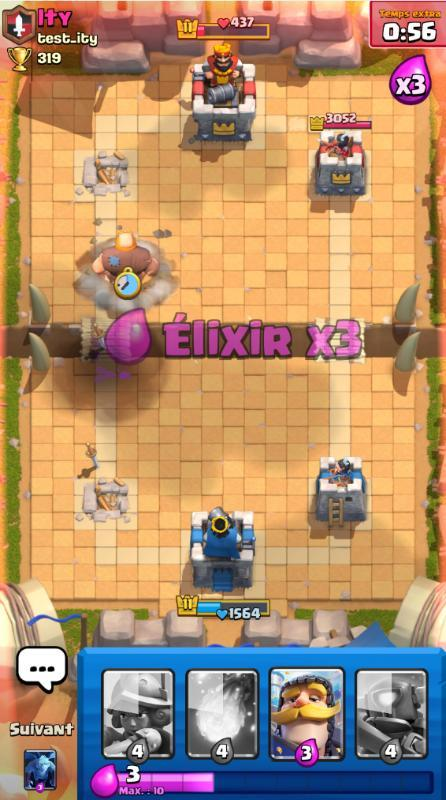geant: (91, 232, 160, 285)
